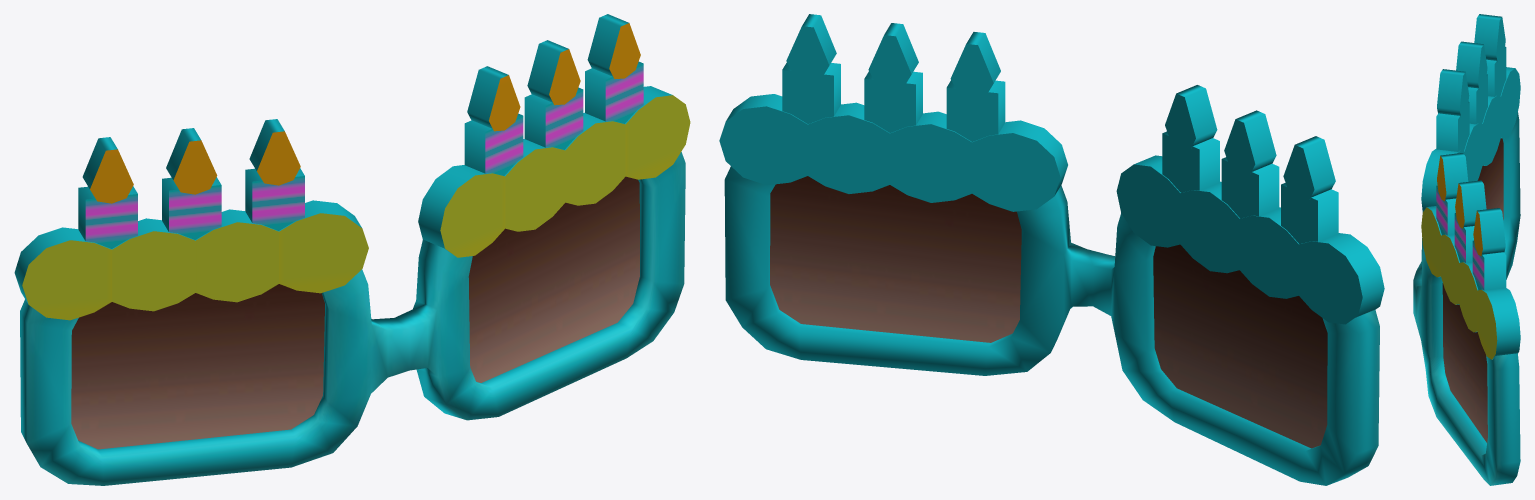
File: AccessoryGlassBirthday3.glb
The picture shows the model from 3 angles, left to right: view 1: azimuth 30°, elevation 25°; view 2: azimuth 150°, elevation 25°; view 3: azimuth 270°, elevation 25°; orthographic projection. The views are drawn at different scales.
Parts seen in each view (by area): view 1: Accessory__mAccessory, AccessoryAlpha1__mAccessoryAlpha; view 2: Accessory__mAccessory, AccessoryAlpha1__mAccessoryAlpha; view 3: Accessory__mAccessory, AccessoryAlpha1__mAccessoryAlpha.
Part boxes in pixels (x1,y1,x2,y2): Accessory__mAccessory: [14, 14, 690, 485]; AccessoryAlpha1__mAccessoryAlpha: [71, 176, 639, 449]; Accessory__mAccessory: [719, 14, 1384, 485]; AccessoryAlpha1__mAccessoryAlpha: [770, 176, 1327, 448]; Accessory__mAccessory: [1413, 14, 1520, 485]; AccessoryAlpha1__mAccessoryAlpha: [1442, 138, 1503, 442].
Bounding box in the file's own units: 5.81 × 2.8 × 1.03.
2 materials, 2 textured.
